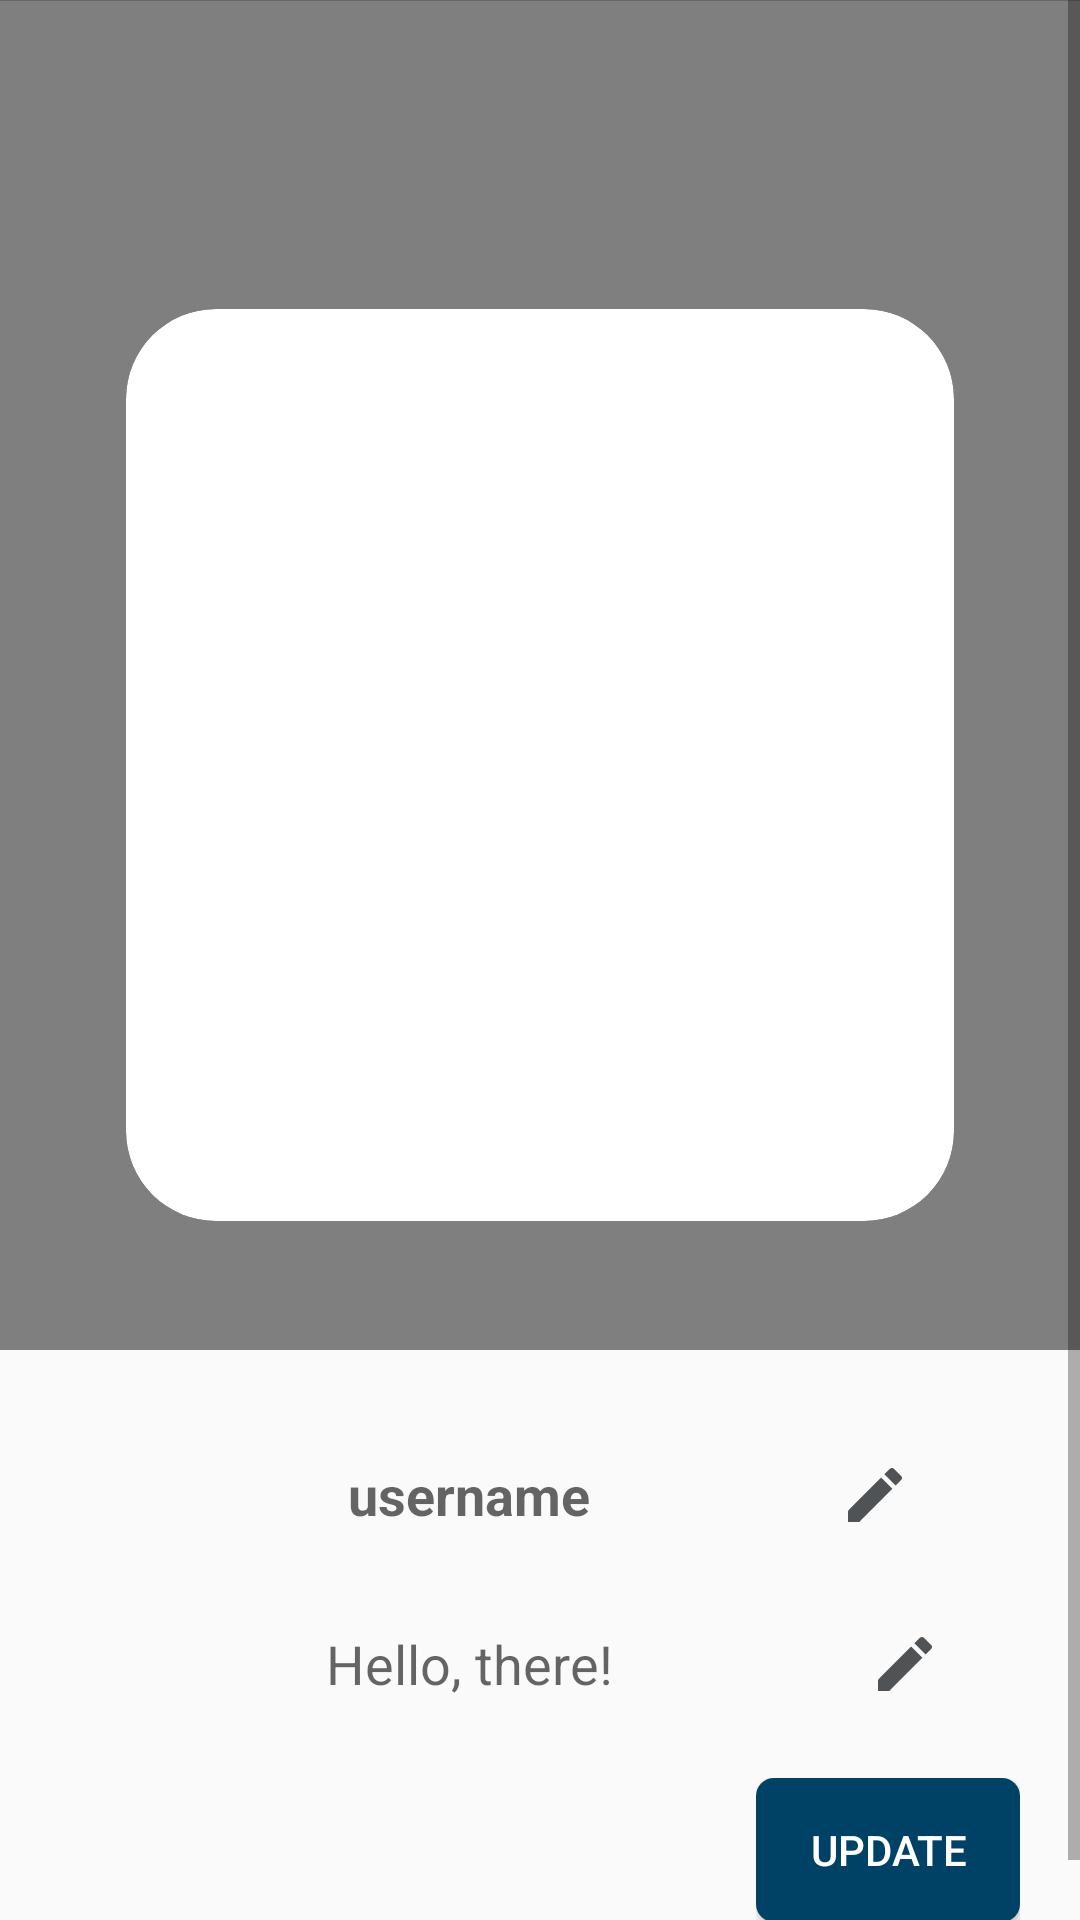

Named icons in this screenshot (1080px x 1920px) and their centers, point (x, y):
edit: point (875, 1495), point (905, 1664)
